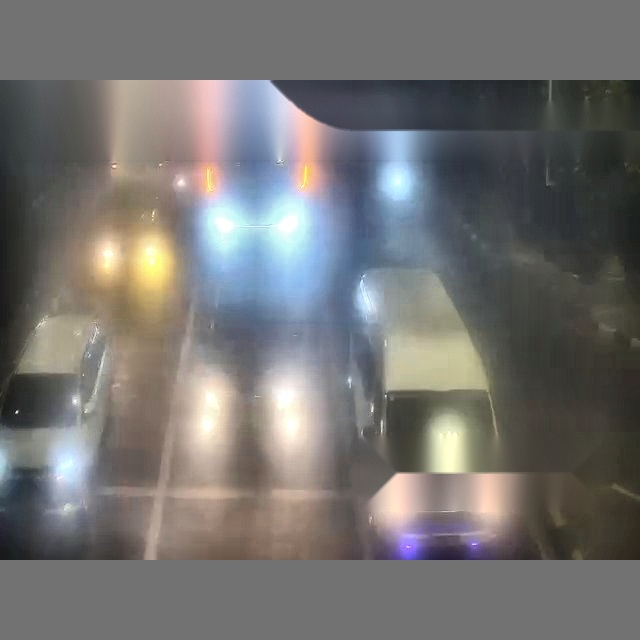Mobil: (353, 266, 507, 552), (0, 314, 112, 555)
